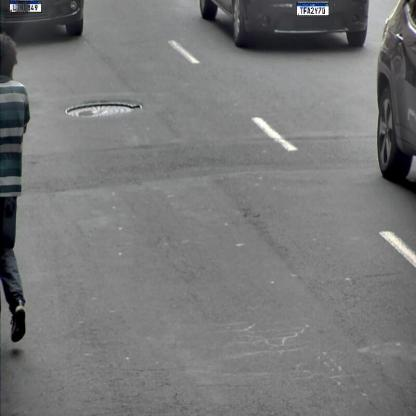PlacaM: (296, 3, 330, 16), (9, 0, 42, 12)
